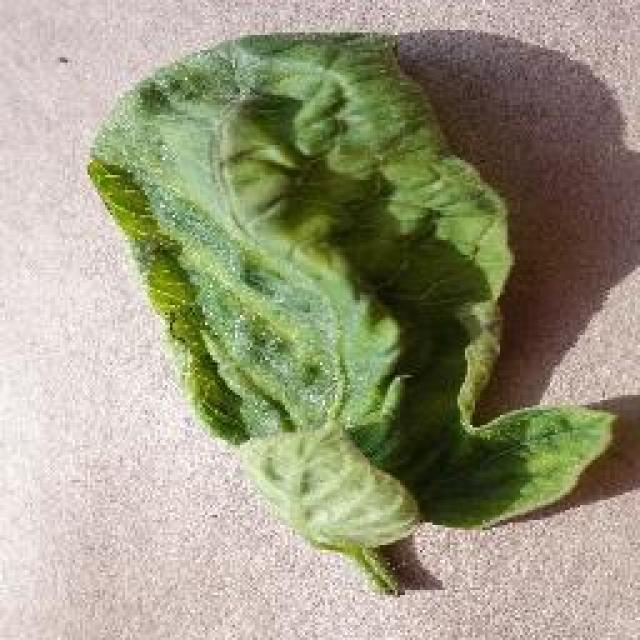Tomato yellow virus leaf: (85, 29, 617, 564)
